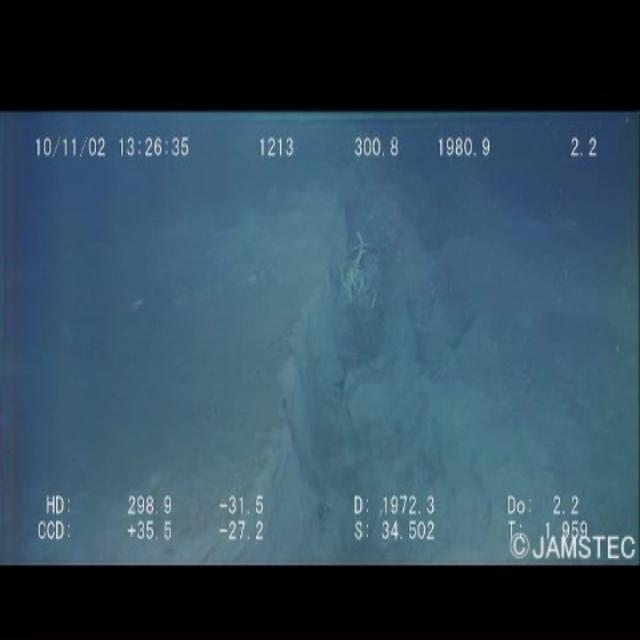Rope: (330, 228, 400, 326)
